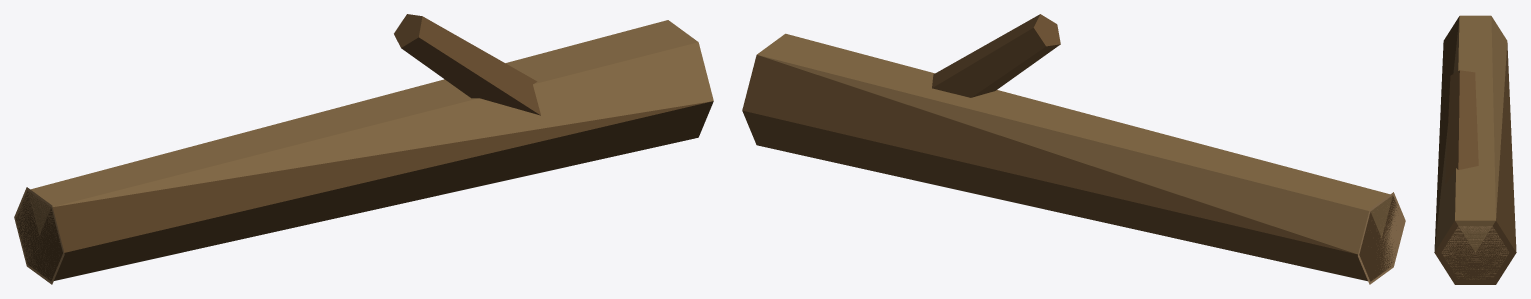
File: food-twig.glb
The picture shows the model from 3 angles, left to right: view 1: azimuth 30°, elevation 25°; view 2: azimuth 150°, elevation 25°; view 3: azimuth 270°, elevation 25°; orthographic projection. The views are drawn at different scales.
Size of the model in its own units: 2.2 by 0.605 by 0.36.
